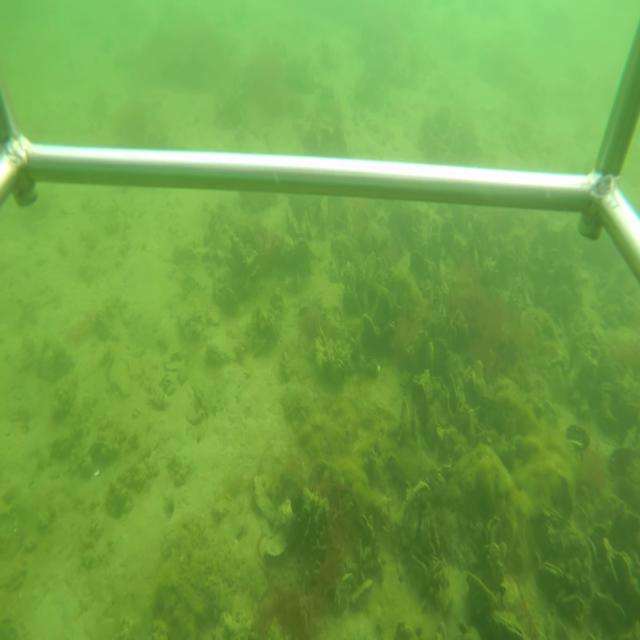Oyster-Closed: (594, 586, 629, 625), (253, 473, 277, 528), (491, 609, 528, 639), (484, 541, 505, 592), (537, 559, 569, 589), (357, 513, 380, 543)
Oyster-Indeterminate: (362, 314, 378, 347)
Oyster-Open: (407, 544, 438, 594), (421, 517, 443, 560), (442, 374, 461, 420), (565, 423, 593, 449)
